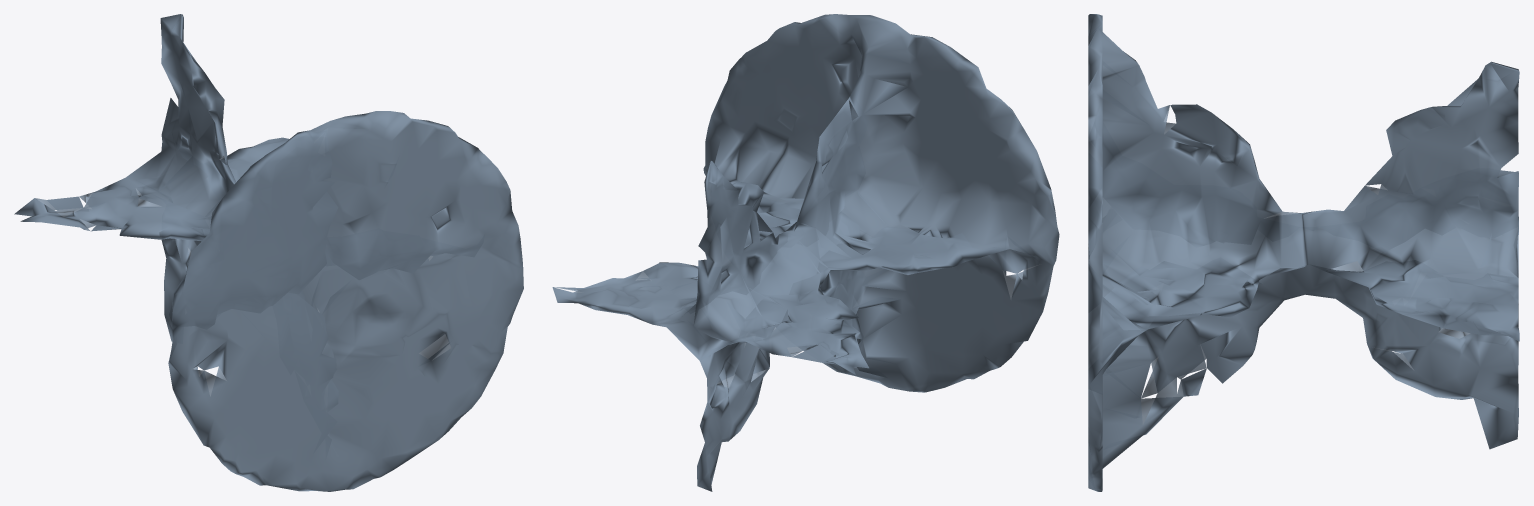
File: table_0363_original.obj
3 renders of one model, left to right at view 1: azimuth 30°, elevation 25°; view 2: azimuth 150°, elevation 25°; view 3: azimuth 270°, elevation 25°, orthographic. The views are drawn at different scales.
Size of the model in its own units: 1.31 by 1.32 by 1.19.
